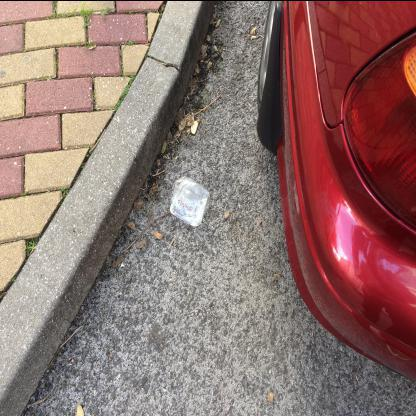plastik: (171, 175, 212, 227)
